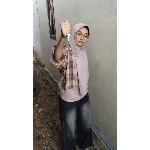Pisau: (62, 20, 82, 60)
